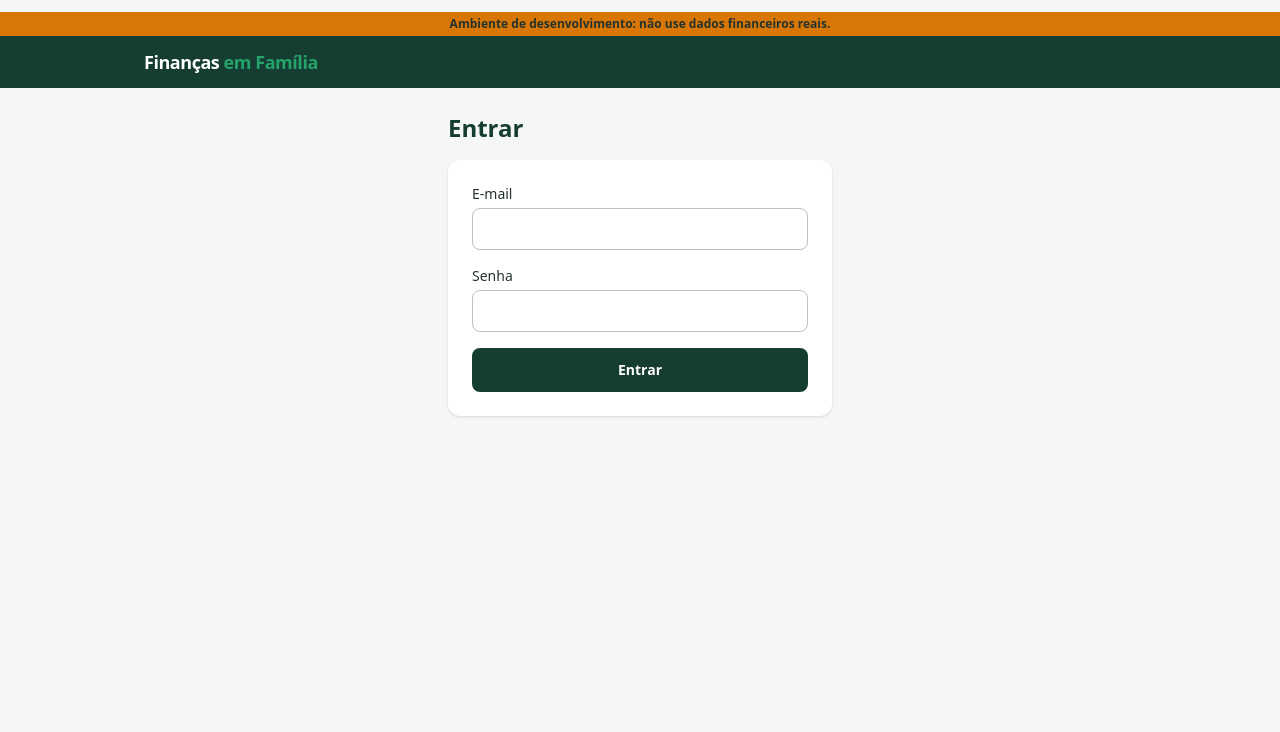
Test: navegação e autenticação › volta para a página pedida após entrar
This screenshot has width=1280, height=732.
Type "pessoa@exemplo.test" into the field labelled "E-mail" at (640, 229), box 472,208 -> 808,250
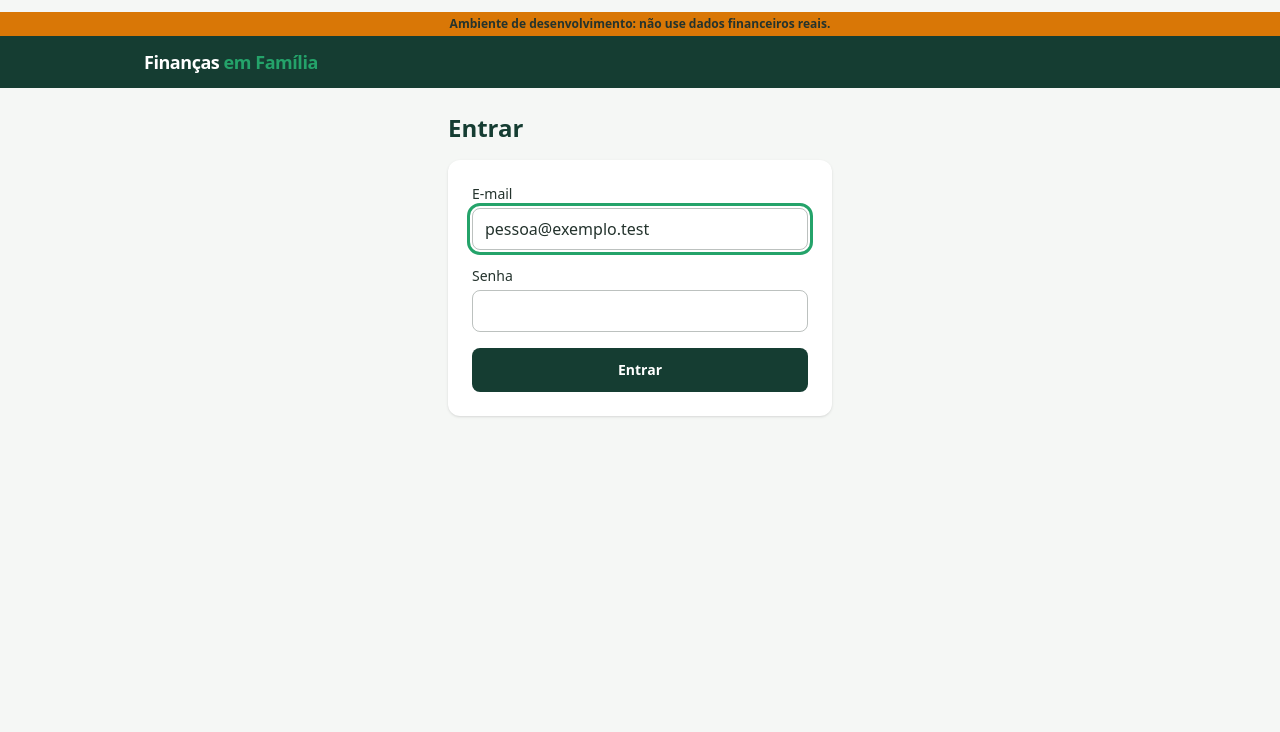
Type "senha-correta" into the password field labelled "Senha" at (640, 311), box 472,290 -> 808,332
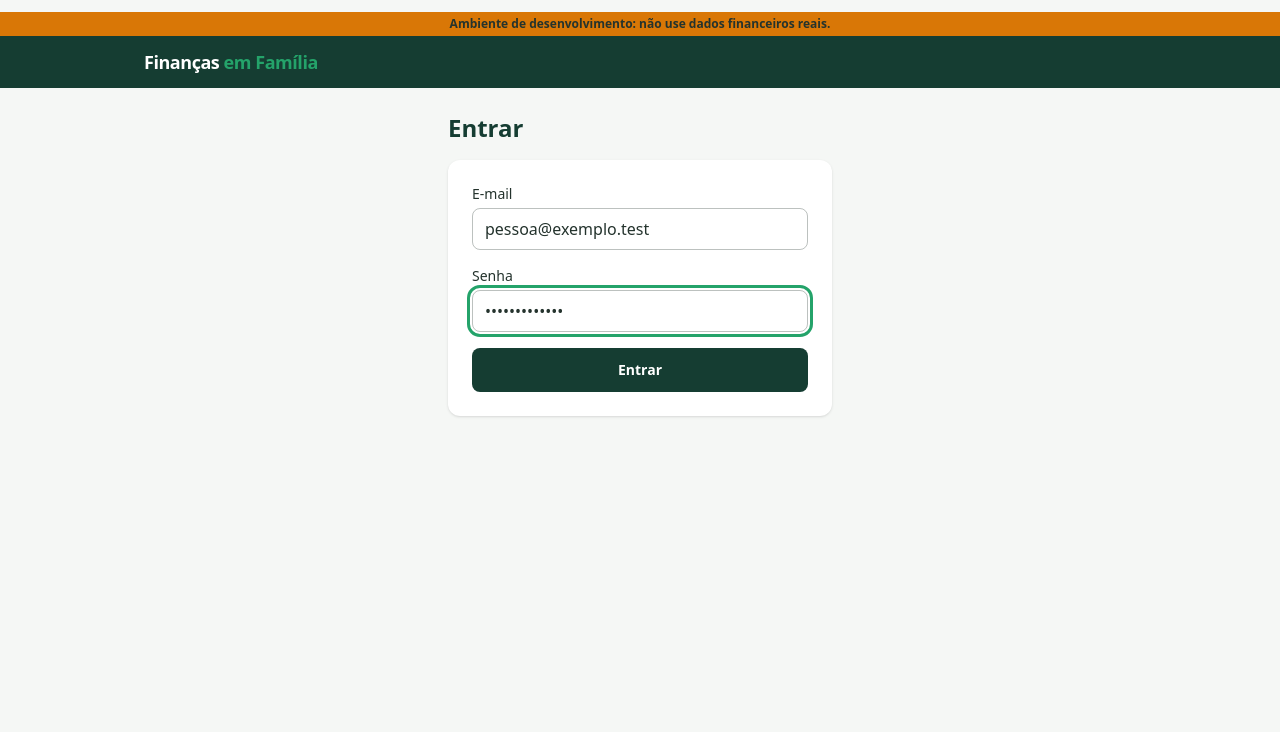
Click the button "Entrar" at (640, 370), box 472,348 -> 808,392
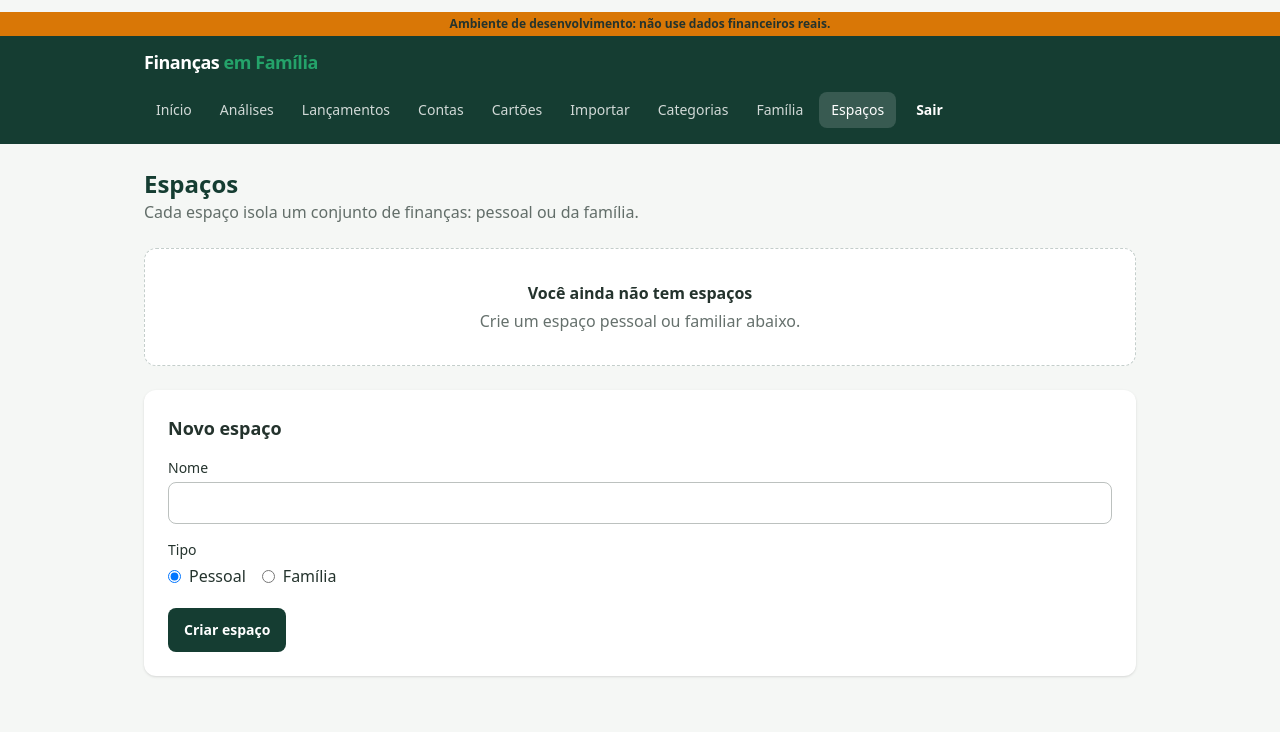
Now the heading "Espaços" is shown, box 144,167 -> 238,200
